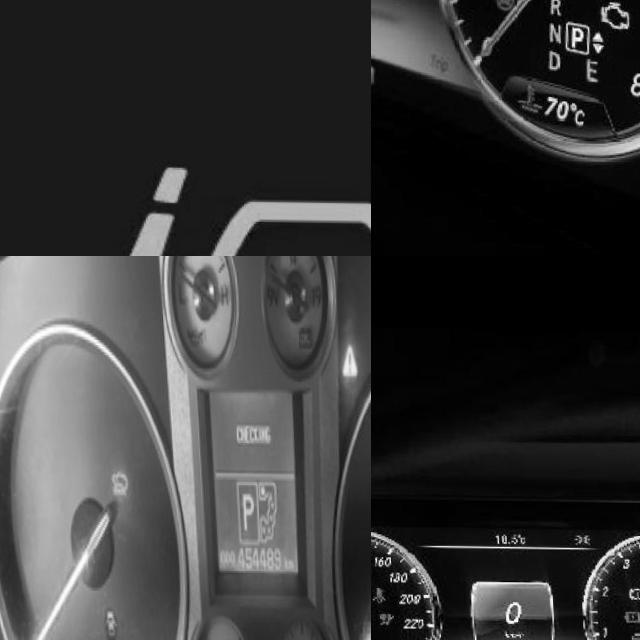Electronic Power Steering: (621, 626, 640, 640)
Engine cooling system: (508, 82, 538, 116)
